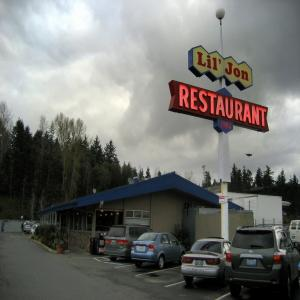Vehicle-registration-plate: (248, 260, 258, 267), (196, 261, 205, 267), (139, 247, 145, 251), (113, 241, 117, 245)
